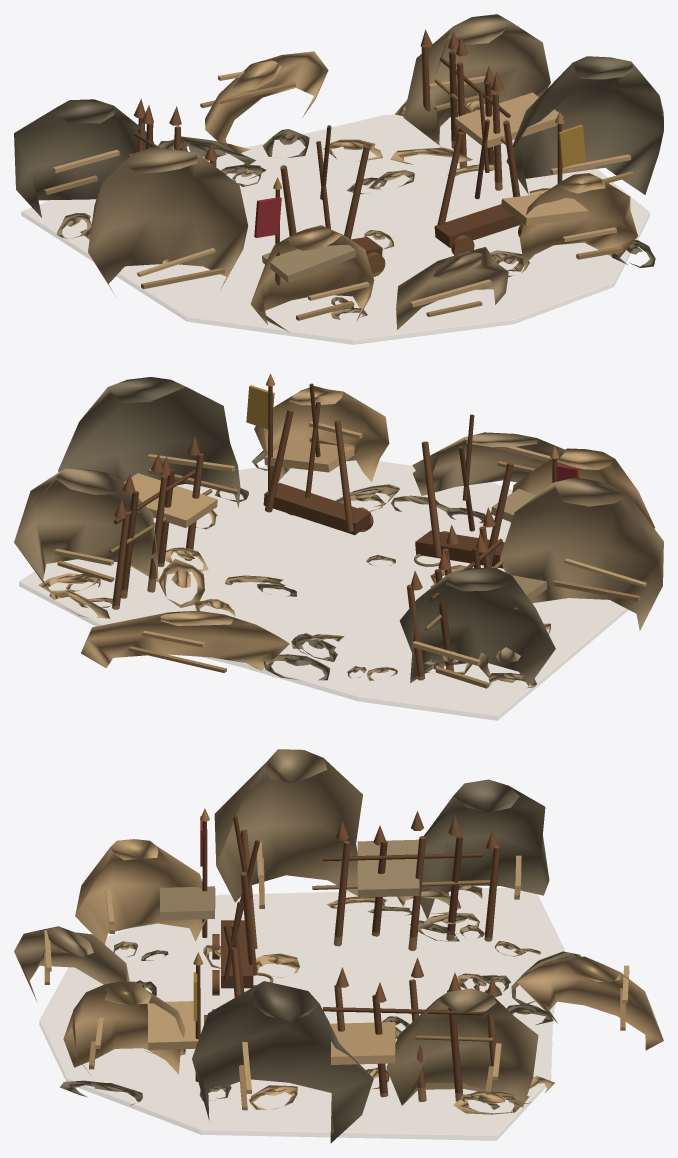
File: gate-cliff-siege-set.glb
The picture shows the model from 3 angles, top to bottom: view 1: azimuth 30°, elevation 25°; view 2: azimuth 150°, elevation 25°; view 3: azimuth 270°, elevation 25°; orthographic projection. The views are drawn at different scales.
Parts seen in each view (by area): view 1: gate_depth_settled_shadow, gate_depth_cliff_mass_6202, gate_depth_cliff_mass_6205, gate_depth_cliff_mass_6201, gate_depth_cliff_mass_6204, gate_depth_cliff_mass_6206, gate_depth_cliff_mass_6203, gate_depth_cliff_mass_6208, gate_depth_cliff_mass_6207, gate_depth_cut_terrace_1, gate_depth_cut_terrace_2, gate_depth_right_siege_sill (+19 smaller); view 2: gate_depth_settled_shadow, gate_depth_cliff_mass_6202, gate_depth_cliff_mass_6205, gate_depth_cliff_mass_6201, gate_depth_cliff_mass_6204, gate_depth_cliff_mass_6208, gate_depth_cliff_mass_6206, gate_depth_cliff_mass_6207, gate_depth_cliff_mass_6203, gate_depth_right_siege_sill, gate_depth_cut_terrace_1, gate_depth_cut_terrace_3 (+23 smaller); view 3: gate_depth_settled_shadow, gate_depth_cliff_mass_6202, gate_depth_cliff_mass_6205, gate_depth_cliff_mass_6204, gate_depth_cliff_mass_6201, gate_depth_cliff_mass_6203, gate_depth_cliff_mass_6206, gate_depth_cliff_mass_6208, gate_depth_cliff_mass_6207, gate_depth_cut_terrace_0, gate_depth_cut_terrace_1, gate_depth_cut_terrace_3 (+13 smaller).
Part boxes in pixels (x1,y1,x2,y2): gate_depth_settled_shadow: (21,115,649,344); gate_depth_cliff_mass_6202: (88,147,248,296); gate_depth_cliff_mass_6205: (506,56,663,194); gate_depth_cliff_mass_6201: (14,99,153,217); gate_depth_cliff_mass_6204: (403,14,550,147); gate_depth_cliff_mass_6206: (520,173,637,265); gate_depth_cliff_mass_6203: (250,225,374,331); gate_depth_cliff_mass_6208: (205,51,328,153); gate_depth_cliff_mass_6207: (396,247,508,329); gate_depth_cut_terrace_1: (455,92,563,147); gate_depth_cut_terrace_2: (262,245,356,282); gate_depth_right_siege_sill: (434,204,521,247); gate_depth_settled_shadow: (19,460,627,720); gate_depth_cliff_mass_6202: (499,477,663,630); gate_depth_cliff_mass_6205: (58,377,240,508); gate_depth_cliff_mass_6201: (399,567,555,686); gate_depth_cliff_mass_6204: (14,468,158,592); gate_depth_cliff_mass_6208: (81,610,289,671); gate_depth_cliff_mass_6206: (254,386,389,481); gate_depth_cliff_mass_6207: (412,432,564,495); gate_depth_cliff_mass_6203: (510,448,654,528); gate_depth_right_siege_sill: (263,482,370,535); gate_depth_cut_terrace_1: (124,473,217,527); gate_depth_cut_terrace_3: (264,440,354,472); gate_depth_settled_shadow: (39,888,564,1140); gate_depth_cliff_mass_6202: (214,749,362,902); gate_depth_cliff_mass_6205: (192,981,373,1143); gate_depth_cliff_mass_6204: (386,988,538,1107); gate_depth_cliff_mass_6201: (420,779,549,918); gate_depth_cliff_mass_6203: (75,839,206,944); gate_depth_cliff_mass_6206: (63,981,185,1075); gate_depth_cliff_mass_6208: (517,956,663,1050); gate_depth_cliff_mass_6207: (14,926,129,1001); gate_depth_cut_terrace_0: (357,839,419,897); gate_depth_cut_terrace_1: (330,1022,395,1064); gate_depth_cut_terrace_3: (147,1001,198,1049).
Size of the model in its own units: 10.4 by 2.8 by 9.7.
